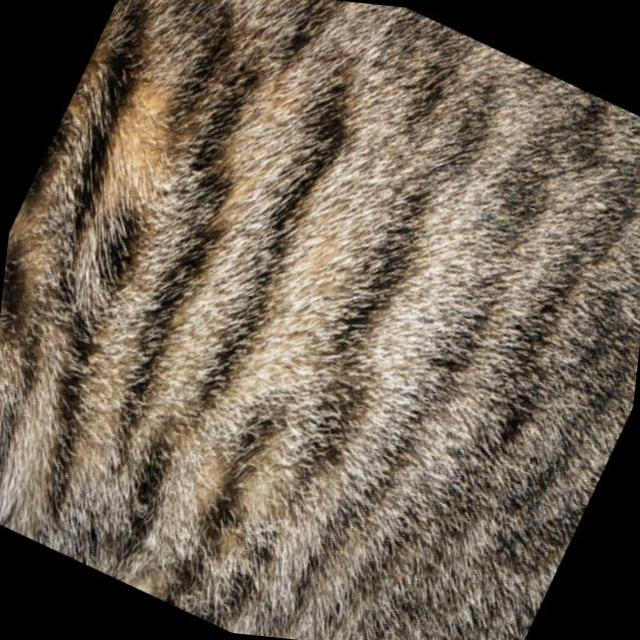Healthy skin: (9, 0, 490, 402), (362, 50, 640, 445), (0, 299, 301, 602), (264, 386, 570, 640)
